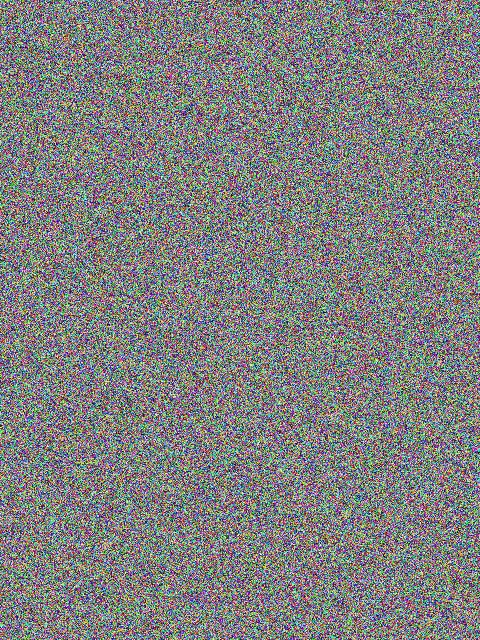diningtable: (69, 461, 200, 539)
